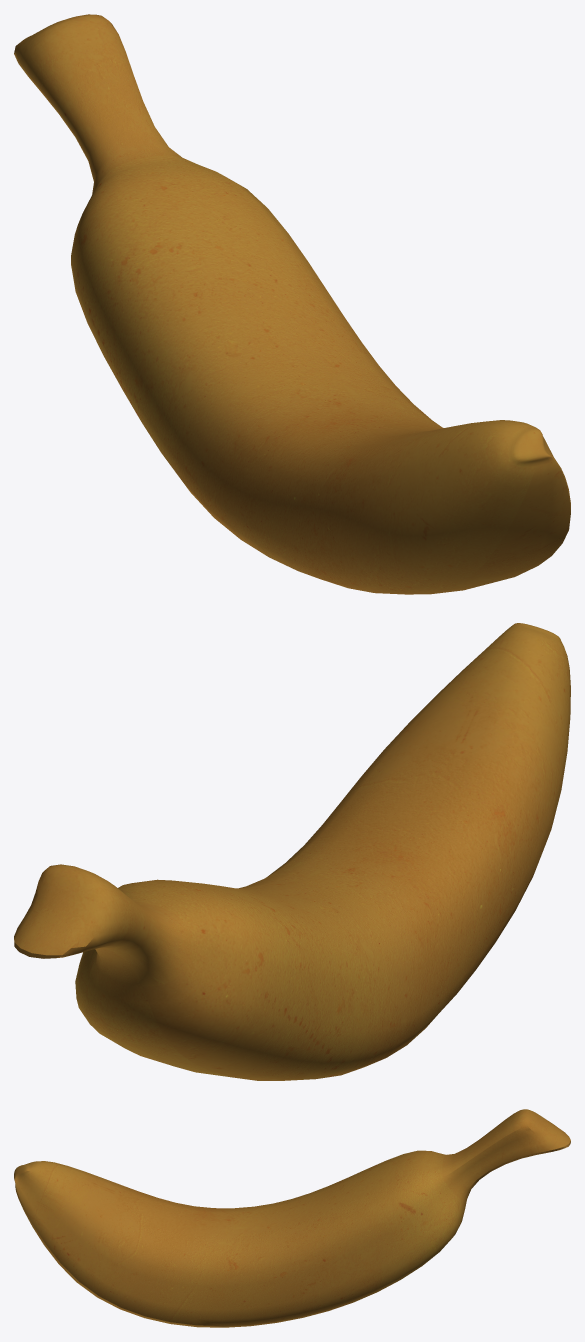
Rendered from BANANA.fbx.
The picture shows the model from 3 angles, top to bottom: view 1: azimuth 30°, elevation 25°; view 2: azimuth 150°, elevation 25°; view 3: azimuth 270°, elevation 25°; orthographic projection. The views are drawn at different scales.
Parts seen in each view (by area): view 1: Cube.001; view 2: Cube.001; view 3: Cube.001.
Boxes of the visible parts, x1,y1,x2,y2 form: Cube.001: [14, 14, 570, 594]; Cube.001: [14, 623, 570, 1080]; Cube.001: [14, 1109, 570, 1327].
Bounding box in the file's own units: 275 × 462 × 1172.
